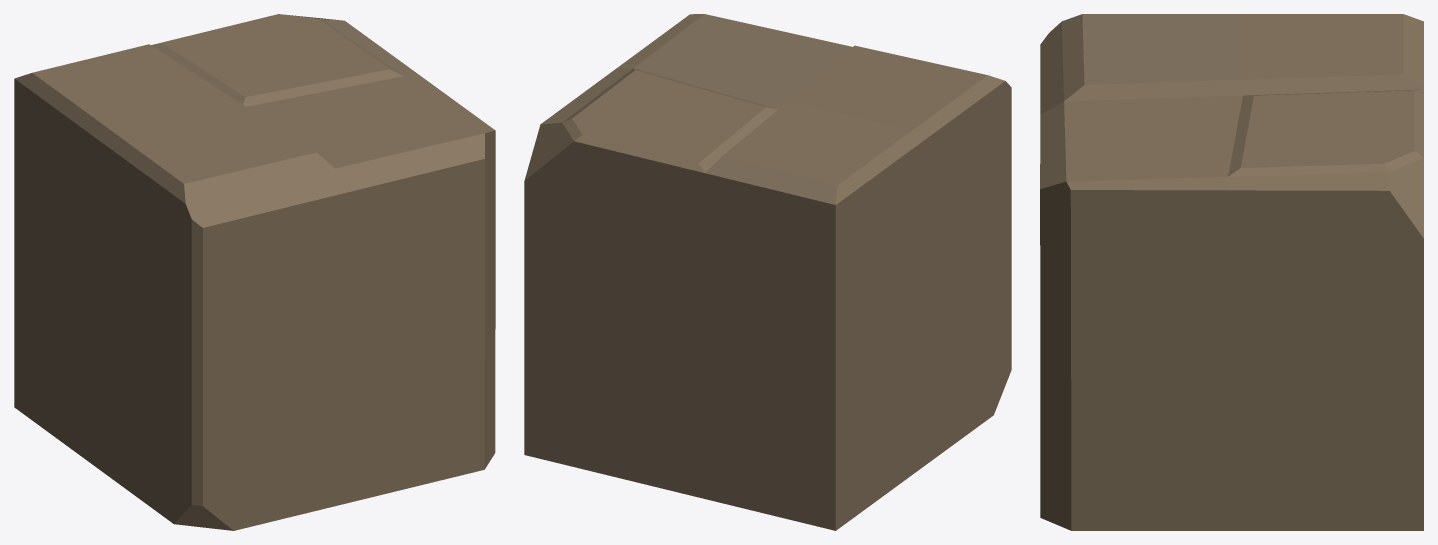
The model's file is Ground_Stone.fbx.
3 renders of one model, left to right at view 1: azimuth 30°, elevation 25°; view 2: azimuth 150°, elevation 25°; view 3: azimuth 270°, elevation 25°, orthographic. The views are drawn at different scales.
Visible parts, largest first — view 1: Ground; view 2: Ground; view 3: Ground.
Boxes of the visible parts, x1=… form: Ground: x1=14, y1=14, x2=495, y2=530; Ground: x1=524, y1=14, x2=1011, y2=530; Ground: x1=1040, y1=14, x2=1423, y2=530.
Bounding box in the file's own units: 196 × 203 × 196.
